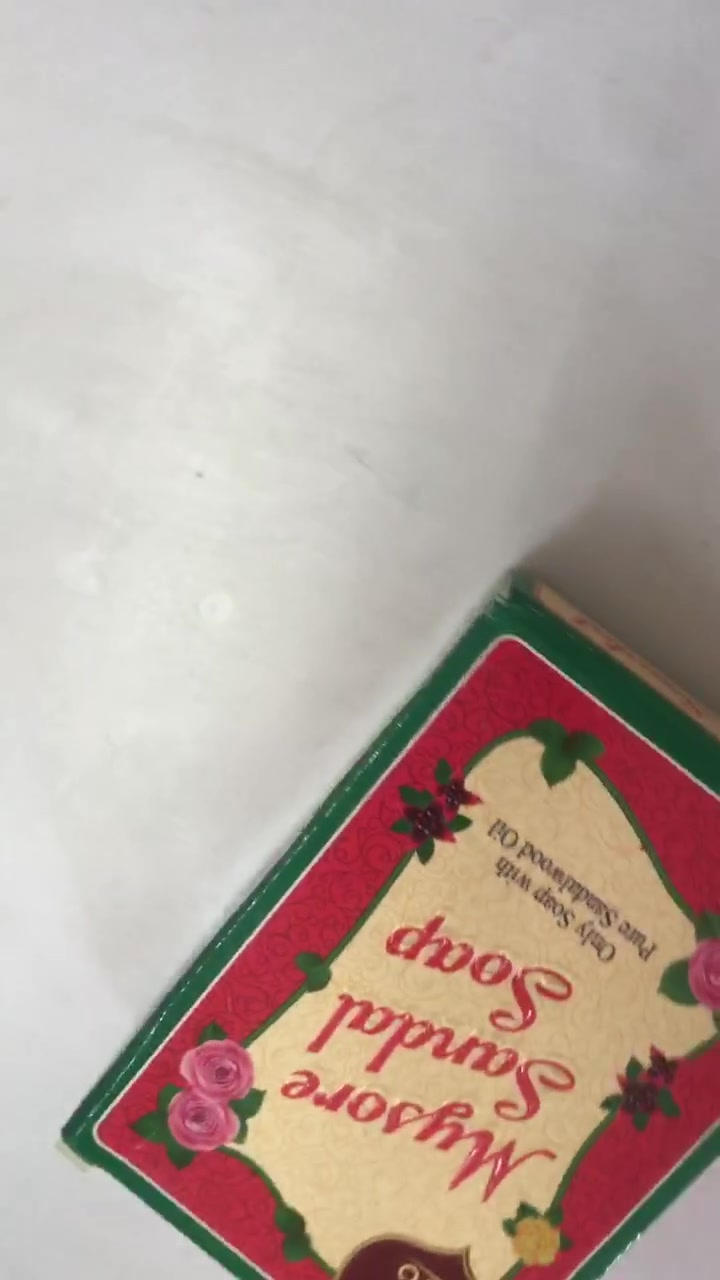mysore sandal soap: (59, 575, 716, 1275)
